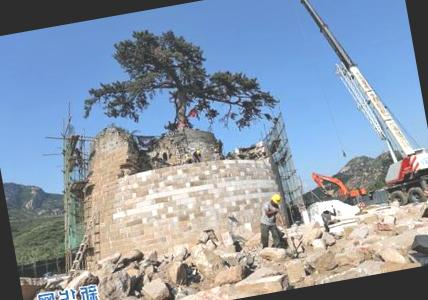person: (245, 192, 294, 250)
